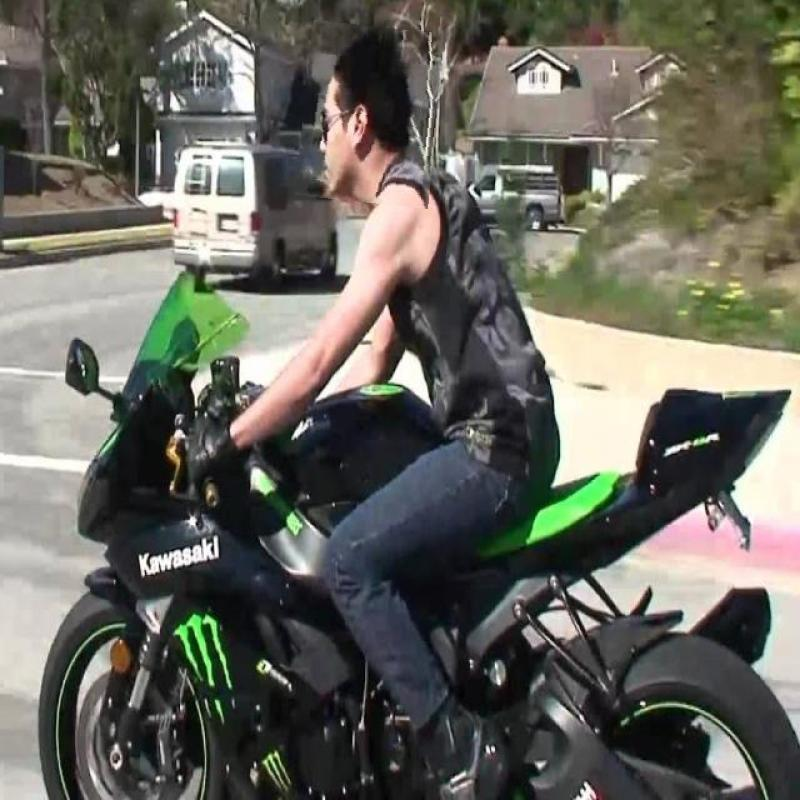nohelmet: (299, 23, 442, 206)
